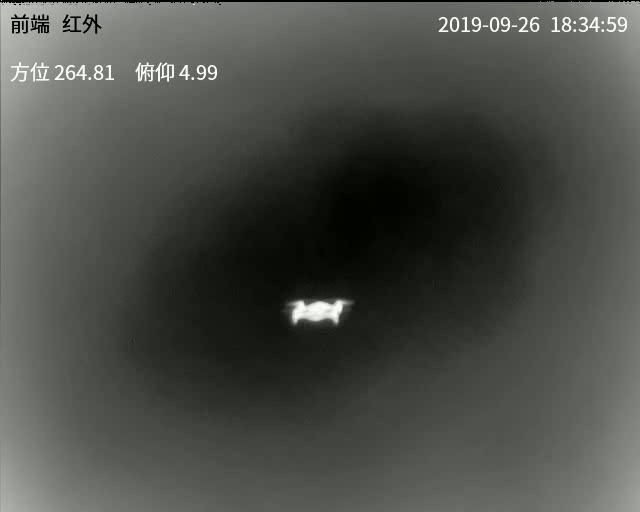DRONE: (289, 297, 347, 325)
